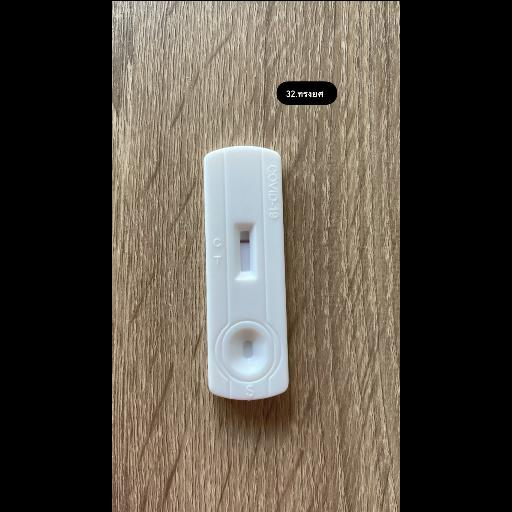Neg: (202, 146, 286, 396)
